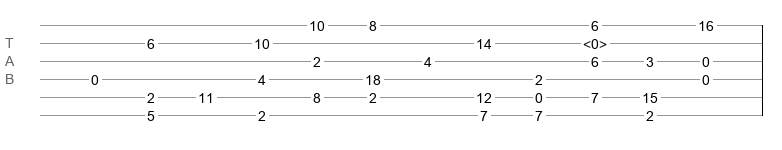0: (91, 72, 99, 82), (535, 90, 543, 100), (702, 54, 710, 64), (702, 72, 710, 82)
10: (254, 36, 270, 46), (309, 18, 325, 28)
11: (198, 90, 214, 100)
12: (476, 90, 492, 100)
14: (476, 36, 492, 46)
15: (642, 90, 658, 100)
16: (698, 18, 714, 28)
18: (365, 72, 381, 82)
2: (147, 90, 155, 100), (258, 108, 266, 118), (313, 54, 321, 64), (369, 90, 377, 100), (535, 72, 543, 82), (646, 108, 654, 118)
3: (646, 54, 654, 64)
4: (258, 72, 266, 82), (424, 54, 432, 64)
5: (147, 108, 155, 118)
6: (147, 36, 155, 46), (591, 18, 599, 28), (591, 54, 599, 64)
7: (480, 108, 488, 118), (535, 108, 543, 118), (591, 90, 599, 100)
8: (313, 90, 321, 100), (369, 18, 377, 28)
harmonic: (583, 36, 607, 46)
